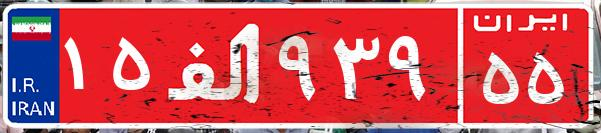1: (57, 26, 110, 107)
3: (330, 28, 385, 110)
5: (475, 38, 525, 113), (110, 28, 158, 105), (525, 38, 570, 115)
9: (385, 28, 445, 110), (273, 28, 330, 110)
الف: (158, 15, 273, 115)
